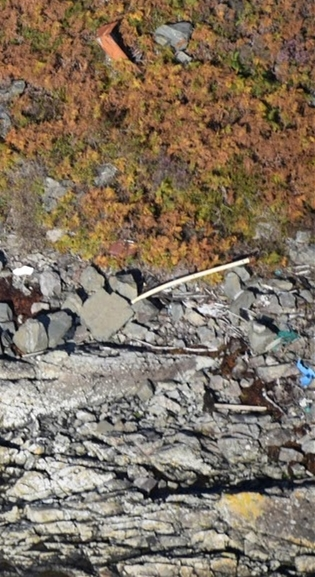straight_bar: (207, 391, 276, 422)
together_barrel: (212, 319, 315, 411)
tube: (115, 249, 264, 313)
white_in_green: (65, 1, 177, 89)
